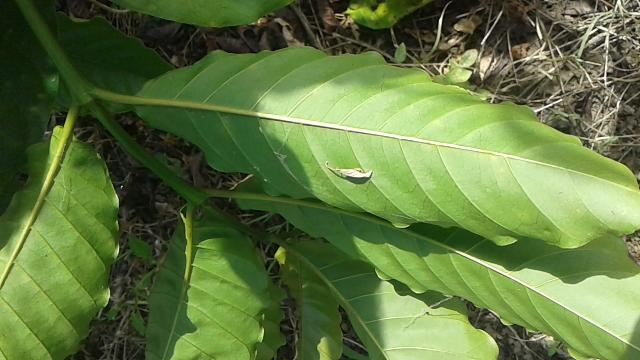rust_level_1: (135, 42, 640, 250)
